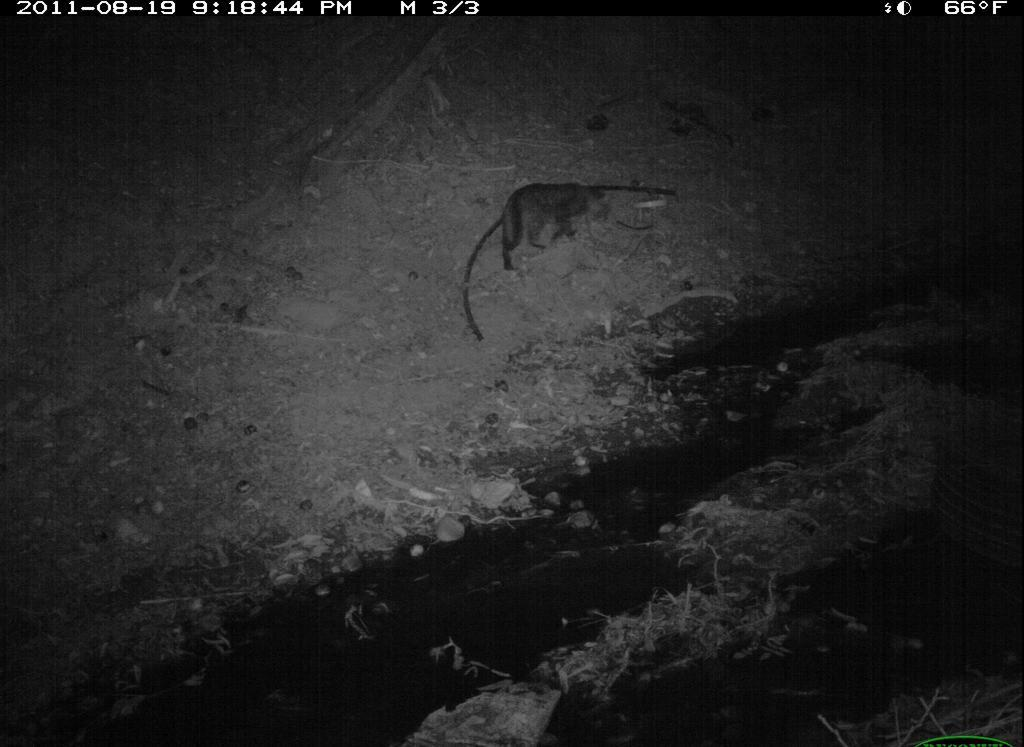cat: (494, 177, 612, 273)
